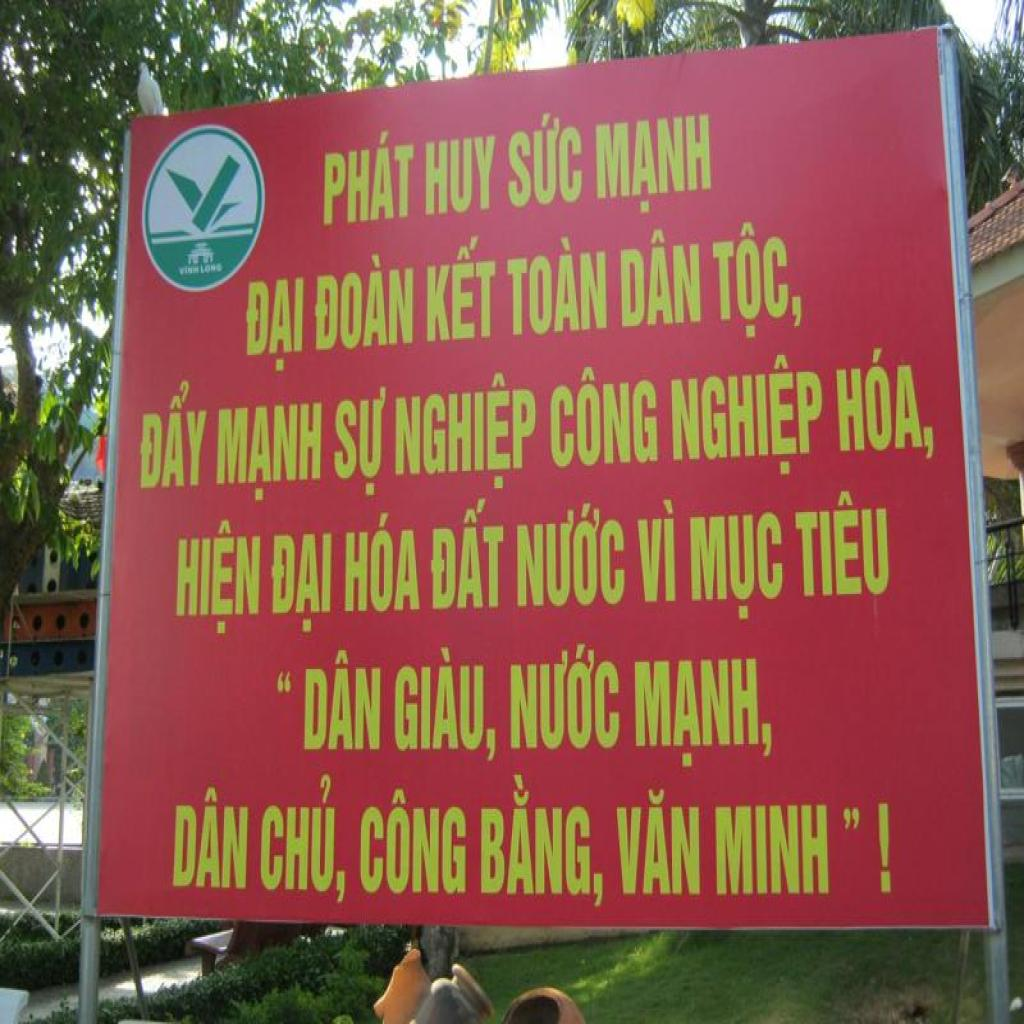text: (668, 351, 831, 478), (628, 645, 784, 770), (394, 367, 542, 497), (476, 771, 608, 913), (356, 785, 471, 908), (589, 111, 718, 220), (828, 343, 940, 466), (390, 645, 500, 768), (260, 773, 352, 915), (507, 643, 622, 756), (708, 795, 834, 898), (514, 500, 628, 613), (710, 215, 808, 343), (550, 362, 660, 471), (208, 399, 322, 502), (685, 507, 786, 623), (794, 488, 892, 601), (170, 516, 262, 636), (612, 784, 706, 900), (314, 251, 416, 357), (507, 232, 609, 338), (164, 782, 255, 896), (298, 646, 384, 764), (318, 126, 414, 230), (426, 495, 508, 613), (613, 227, 704, 333), (130, 377, 210, 497), (339, 509, 421, 623), (421, 234, 498, 346), (502, 109, 585, 212), (265, 528, 337, 636), (333, 386, 394, 504), (421, 126, 499, 217), (243, 273, 309, 376), (165, 157, 242, 236), (630, 494, 681, 610), (872, 798, 901, 904), (271, 666, 297, 696), (840, 802, 862, 831), (177, 265, 201, 278)
